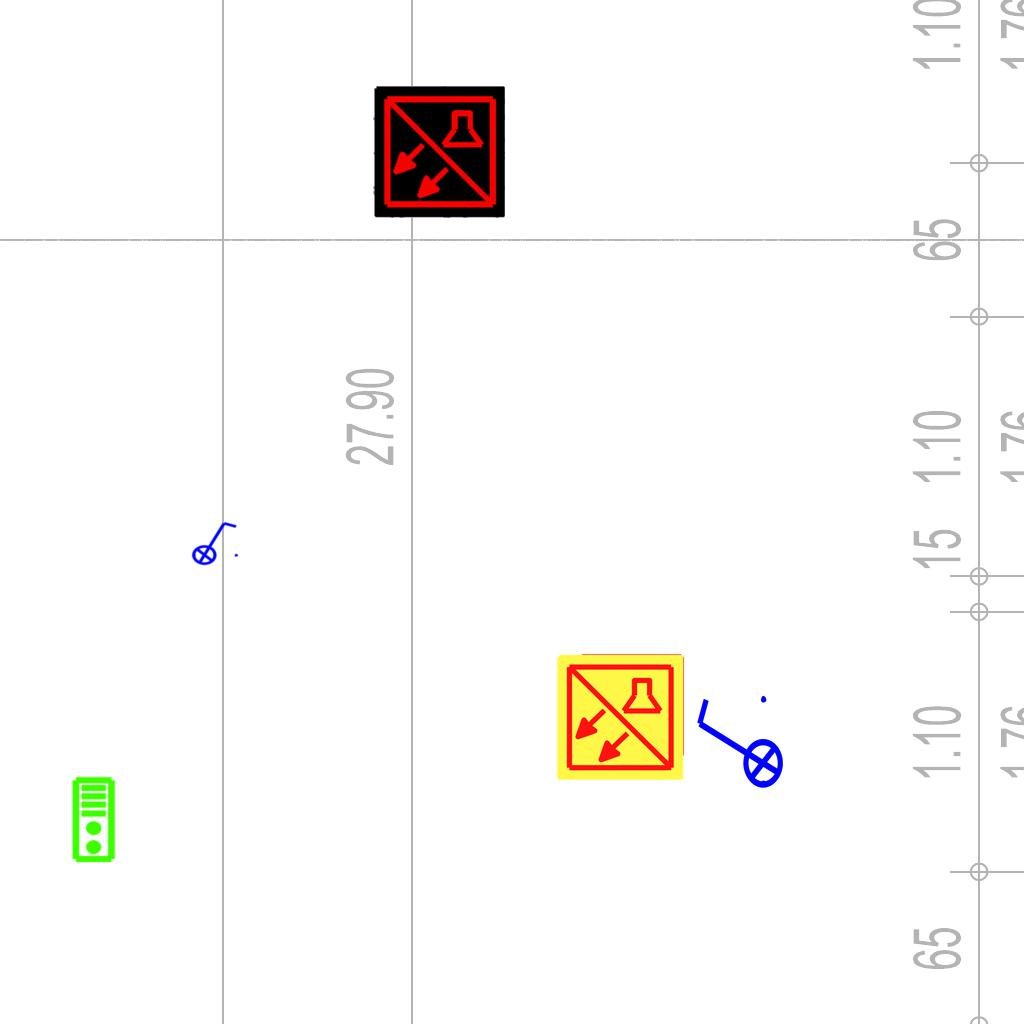Ausschalter_beleuchtet: (689, 690, 785, 802), (185, 518, 241, 566)
Gegensprechanlage_mit_Video: (71, 776, 118, 864)
OKW_Multisensormelder_(Kombination_optischer_Rauch-Kahlenmonoxid_Waerme-Melder): (554, 651, 686, 783), (373, 86, 505, 218)
